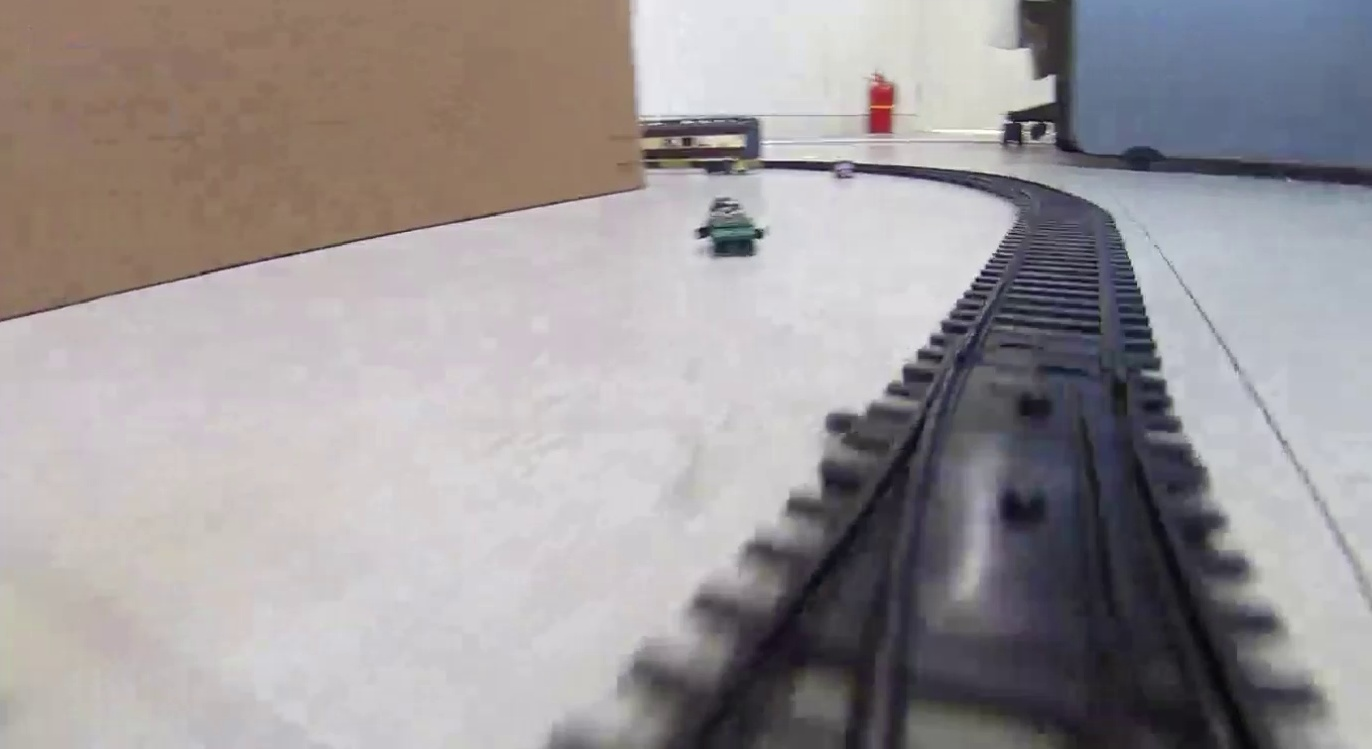people: (694, 195, 773, 258)
